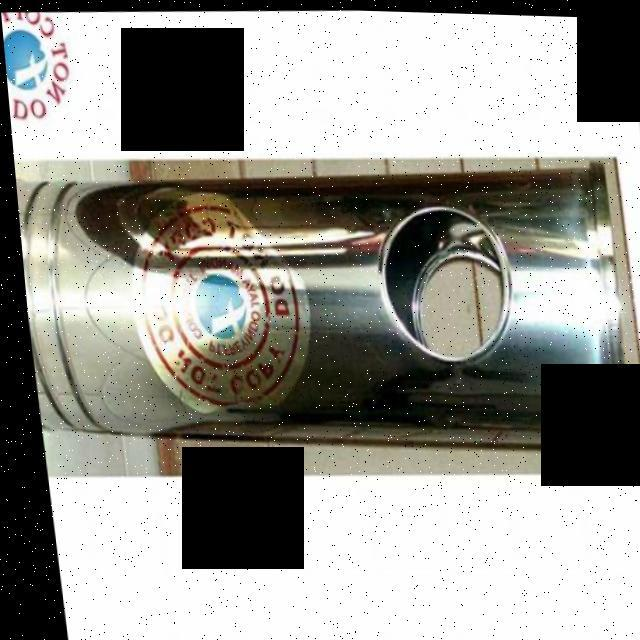bin: (10, 142, 640, 488)
